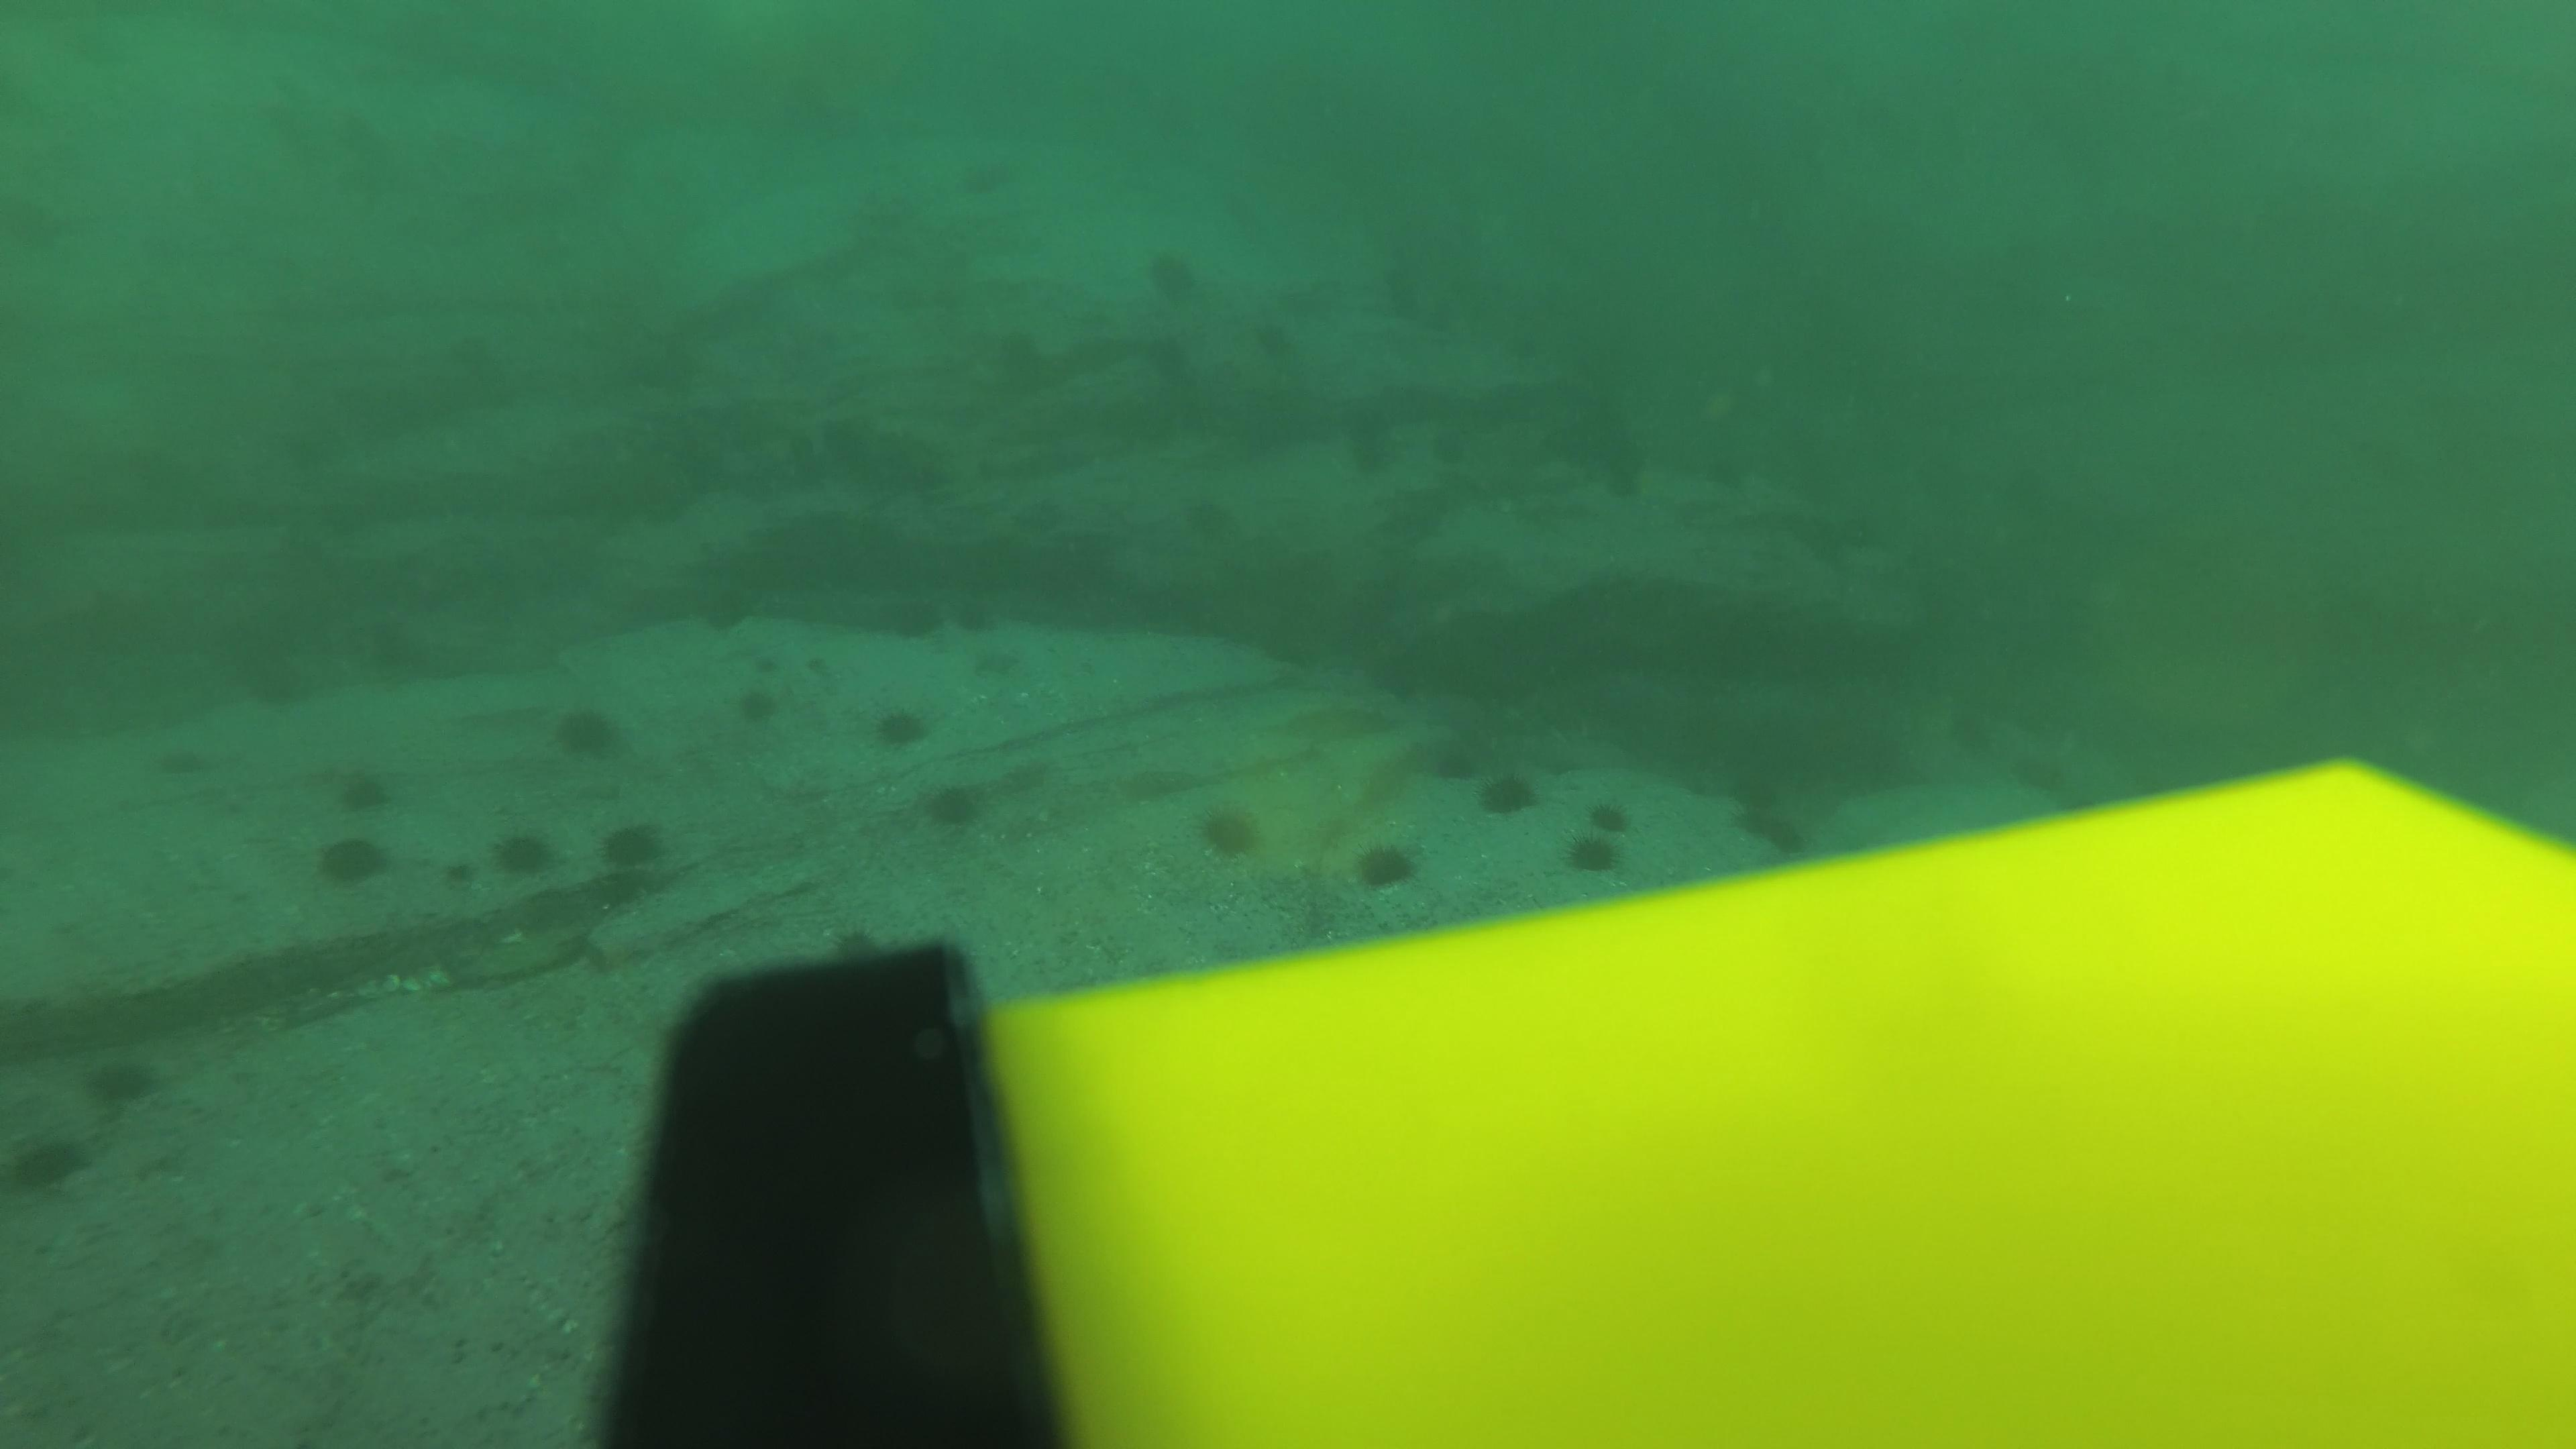echinus: (4, 1123, 94, 1200), (78, 1044, 168, 1115), (1189, 796, 1269, 867), (547, 695, 628, 764), (311, 828, 393, 893), (1350, 833, 1424, 897), (1472, 761, 1545, 823), (488, 821, 561, 883), (918, 775, 991, 837), (1141, 242, 1205, 308), (1187, 478, 1251, 543), (685, 582, 748, 648), (1346, 421, 1410, 487), (1408, 412, 1472, 478), (1698, 442, 1762, 508), (1589, 446, 1652, 511), (1985, 731, 2049, 796), (2012, 740, 2075, 805), (386, 582, 449, 648), (433, 315, 497, 380), (593, 816, 667, 870), (941, 580, 1005, 644), (885, 577, 948, 640), (1925, 686, 1989, 750), (961, 136, 1024, 200), (987, 322, 1051, 386), (234, 655, 297, 718), (357, 617, 421, 681), (1238, 303, 1302, 366), (1134, 308, 1198, 372), (1428, 722, 1491, 786), (819, 909, 893, 962), (329, 759, 396, 816), (869, 697, 934, 754), (1582, 794, 1645, 844), (729, 678, 786, 732), (1559, 832, 1621, 879), (1760, 814, 1803, 846), (1730, 805, 1773, 837), (1773, 826, 1815, 856), (1737, 777, 1780, 807)
